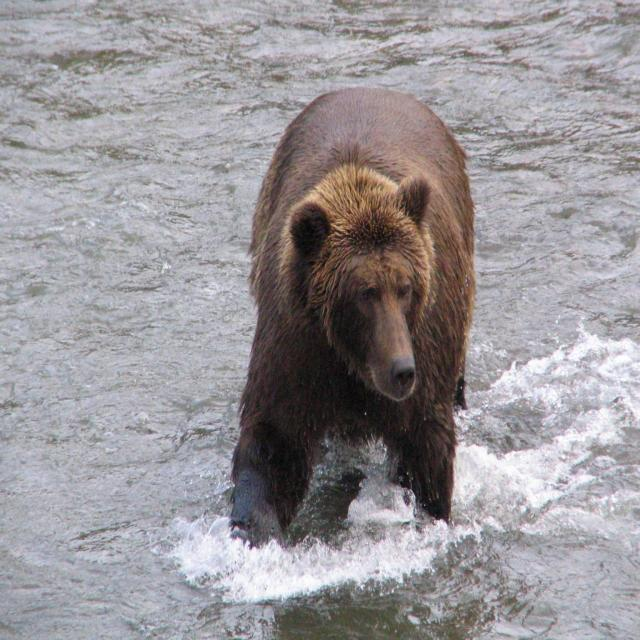bear face: (235, 88, 473, 540)
